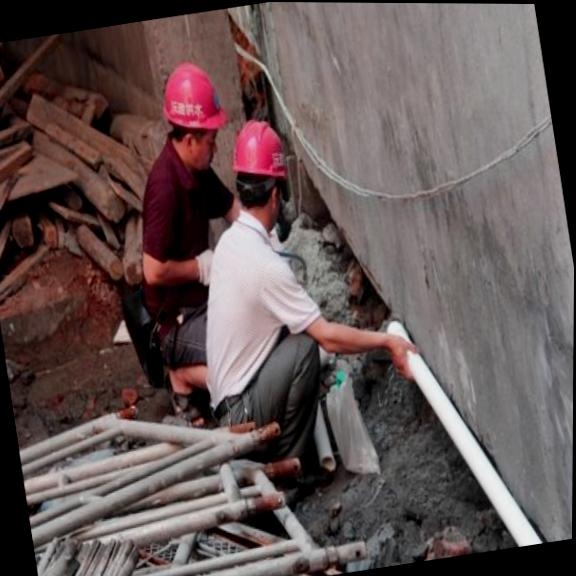no_safety_vest: (181, 216, 325, 426), (120, 147, 236, 320)
